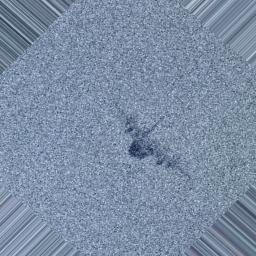Airplane: (113, 103, 192, 180)
